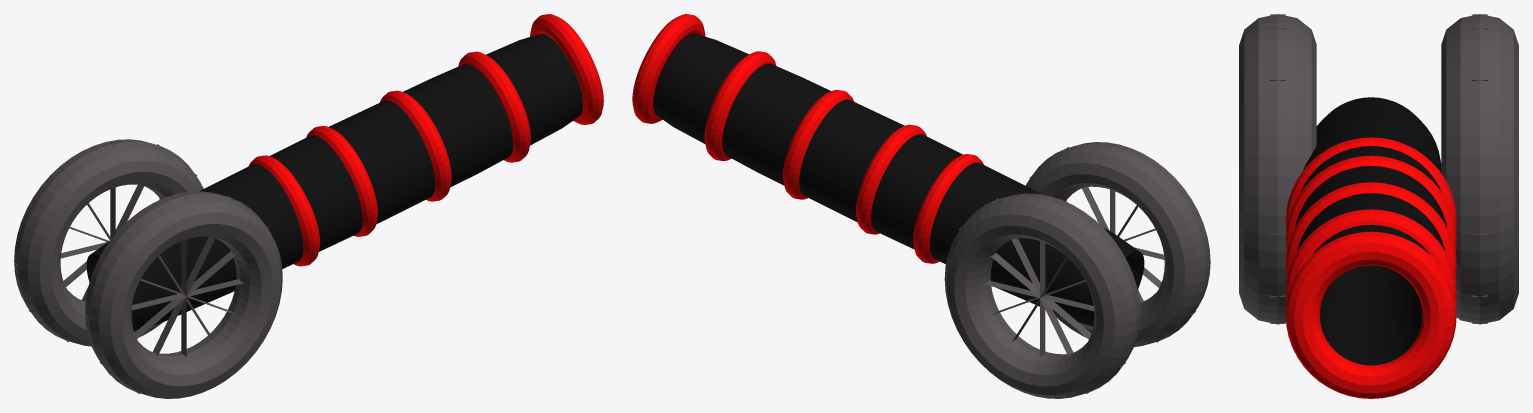
File: Piros agyu.glb
3 renders of one model, left to right at view 1: azimuth 30°, elevation 25°; view 2: azimuth 150°, elevation 25°; view 3: azimuth 270°, elevation 25°, orthographic. The views are drawn at different scales.
Visible parts, largest first — view 1: Torus.006; view 2: Torus.006; view 3: Torus.006.
Part boxes in pixels (x1,y1,x2,y2): Torus.006: (14, 14, 603, 398); Torus.006: (632, 14, 1210, 398); Torus.006: (1239, 14, 1518, 398).
Bounding box in the file's own units: 3.82 × 1.74 × 1.23.
